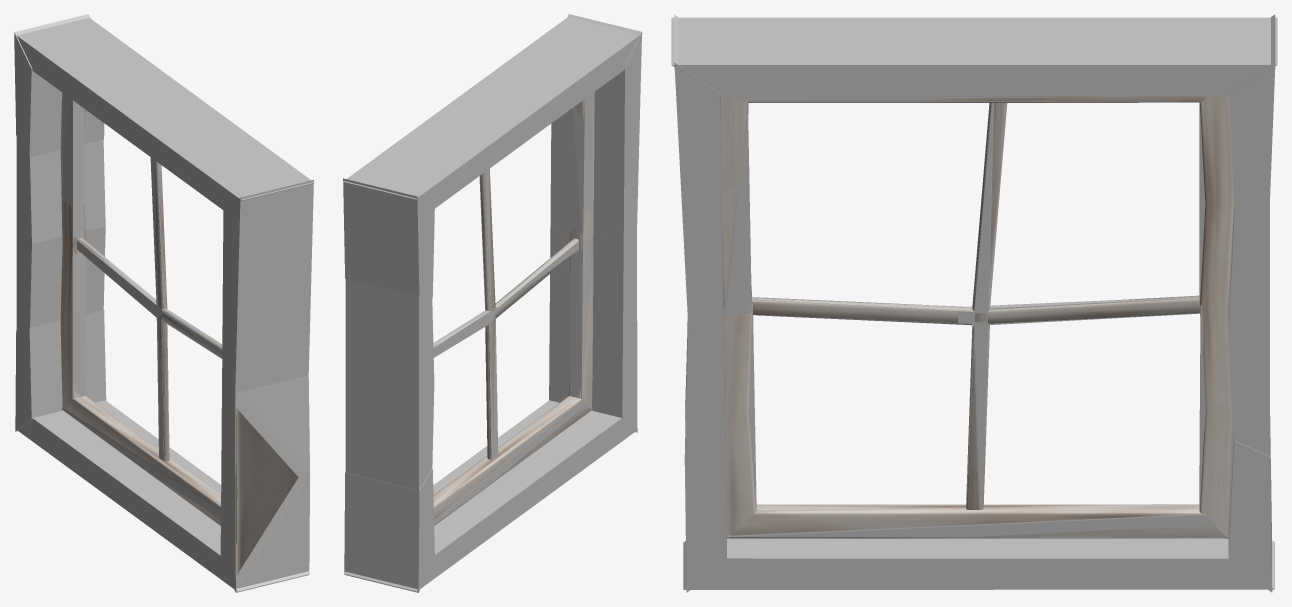
The model's file is SM_PropWindow01TypeC_2_2.fbx.
3 renders of one model, left to right at view 1: azimuth 30°, elevation 25°; view 2: azimuth 150°, elevation 25°; view 3: azimuth 270°, elevation 25°, orthographic. The views are drawn at different scales.
Parts seen in each view (by area): view 1: SM_PropWindow01TypeC_2_2_ConvexHulls, SM_PropWindow01TypeC_2_2; view 2: SM_PropWindow01TypeC_2_2_ConvexHulls, SM_PropWindow01TypeC_2_2; view 3: SM_PropWindow01TypeC_2_2_ConvexHulls, SM_PropWindow01TypeC_2_2.
Boxes of the visible parts, x1,y1,x2,y2 form: SM_PropWindow01TypeC_2_2_ConvexHulls: (14, 14, 314, 592); SM_PropWindow01TypeC_2_2: (60, 96, 298, 575); SM_PropWindow01TypeC_2_2_ConvexHulls: (343, 14, 642, 592); SM_PropWindow01TypeC_2_2: (433, 92, 637, 525); SM_PropWindow01TypeC_2_2_ConvexHulls: (671, 14, 1277, 592); SM_PropWindow01TypeC_2_2: (685, 96, 1233, 538).
Size of the model in its own units: 31.56 by 167 by 161.
2 materials, 1 textured.
